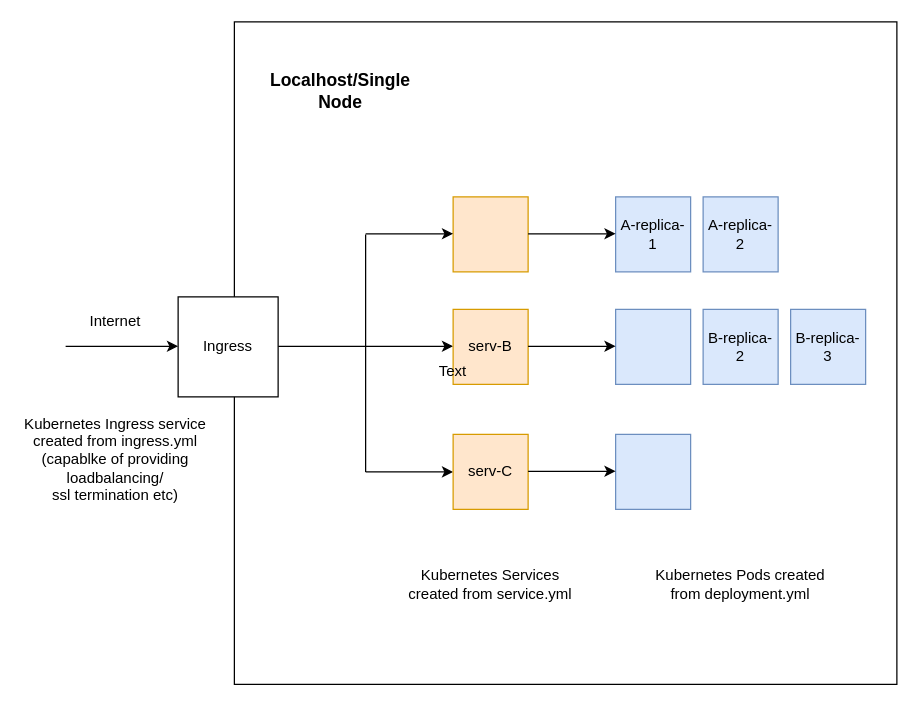
The diagram is 919 pixels wide and 706 high, and some of its shapes have lost their labels. Here are the shapes that lost their labels. From the top down, the centre of each, then its label:
(490,234): serv-A
(652,346): B-replica-1
(652,471): C-replica-1
